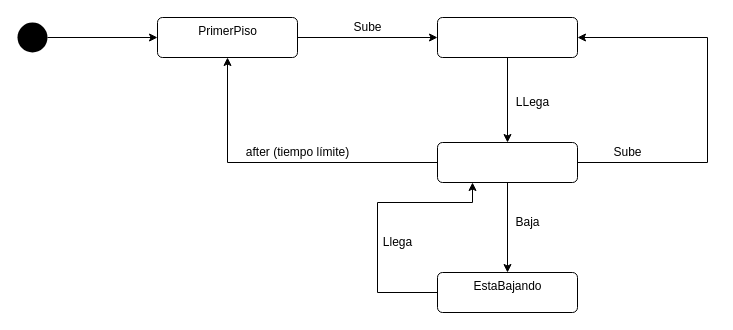
The diagram is 733 pixels wide and 330 high, and some of its shapes have lost their labels. The shapes that lost their labels are listed below. From the top down, each one's centre as x and y in pixels, then its label:
At (507,37): "EstaSubiendo".
At (507,162): "SePara".
